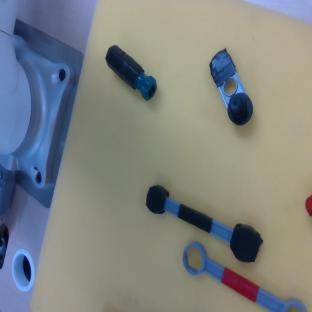part_1_bad: (201, 48, 259, 129)
part_1_good: (306, 195, 312, 215)
part_2_bad: (99, 42, 162, 102)
part_3_bad: (137, 182, 267, 266)
part_3_good: (175, 238, 309, 312)
